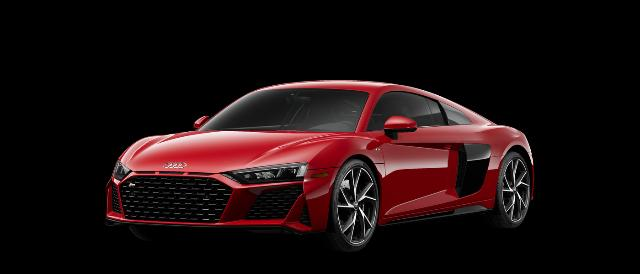audi: (105, 80, 535, 254)
